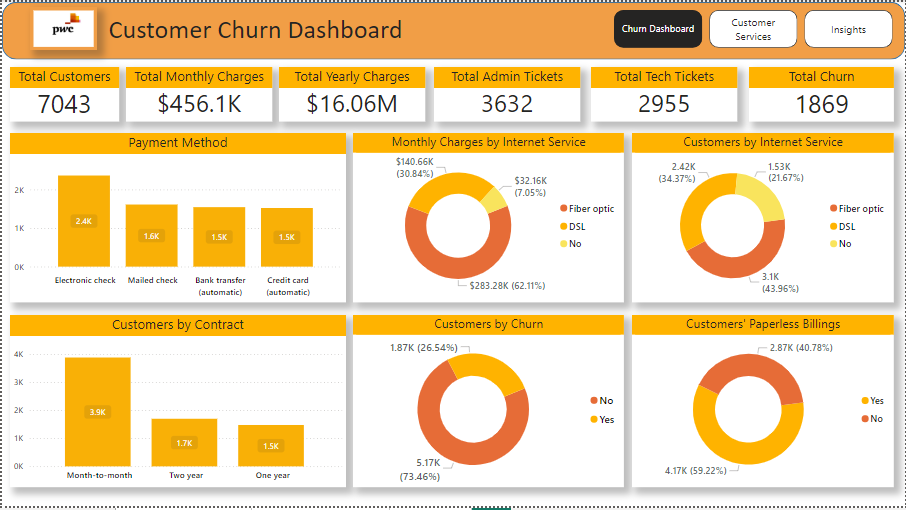

This screenshot's page, from the dashboard's own definition file:
{"tool":"powerbi","page":{"name":"Churn Dashboard","canvas":[1290,720],"ordinal":0},"visuals":[{"type":"shape","box":[0,0,1290.2,82.1],"z":0},{"type":"image","box":[40.3,7.2,96.5,61.9],"z":1000},{"type":"textbox","box":[146.9,10.1,447.8,61.9],"z":2000},{"type":"card","title":"Total Customers","fields":{"Values":["Count(01 Churn-Dataset.CustomerID)"]},"box":[11.5,92.2,155.5,77.8],"z":3000},{"type":"card","title":"Total Monthly Charges","fields":{"Values":["Sum(01 Churn-Dataset.MonthlyCharges)"]},"box":[177.1,92.2,208.8,77.8],"z":4000},{"type":"card","title":"Total Yearly Charges","fields":{"Values":["Sum(01 Churn-Dataset.TotalCharges)"]},"box":[396,92.2,208.8,77.8],"z":5000},{"type":"card","title":"Total Admin Tickets","fields":{"Values":["Sum(01 Churn-Dataset.AdminTickets)"]},"box":[617.8,92.2,208.8,77.8],"z":6000},{"type":"card","title":"Total Tech Tickets","fields":{"Values":["Sum(01 Churn-Dataset.TechTickets)"]},"box":[841,92.2,208.8,77.8],"z":7000},{"type":"columnChart","title":"Payment Method","fields":{"Category":["01 Churn-Dataset.PaymentMethod"],"Y":["CountNonNull(01 Churn-Dataset.CustomerID)"]},"box":[11.5,187.2,479.5,241.9],"z":8000},{"type":"donutChart","title":"Monthly Charges by Internet Service","fields":{"Y":["Sum(01 Churn-Dataset.MonthlyCharges)"],"Category":["01 Churn-Dataset.InternetService"]},"box":[501.1,187.2,387.4,241.9],"z":9000},{"type":"donutChart","title":"Customers by Internet Service","fields":{"Category":["01 Churn-Dataset.InternetService"],"Y":["CountNonNull(01 Churn-Dataset.CustomerID)"]},"box":[900,187.2,374.4,241.9],"z":10000},{"type":"columnChart","title":"Customers by Contract","fields":{"Y":["CountNonNull(01 Churn-Dataset.CustomerID)"],"Category":["01 Churn-Dataset.Contract"]},"box":[11.5,447.8,479.5,246.2],"z":11000},{"type":"card","title":"Total Churn","fields":{"Values":["01 Churn-Dataset.Total_Churn"]},"box":[1067,92.2,207.4,77.8],"z":12000},{"type":"donutChart","title":"Customers by Churn","fields":{"Y":["CountNonNull(01 Churn-Dataset.CustomerID)"],"Category":["01 Churn-Dataset.Churn"]},"box":[501.1,447.8,387.4,246.2],"z":13000},{"type":"donutChart","title":"Customers'' Paperless Billings","fields":{"Y":["CountNonNull(01 Churn-Dataset.CustomerID)"],"Category":["01 Churn-Dataset.PaperlessBilling"]},"box":[900,447.8,374.4,246.2],"z":14000},{"type":"pageNavigator","box":[874.1,11.5,400.3,54.7],"z":15000}]}

Visuals, with their boxes in screenshot pixels (x1, y1, x2, y2), scaled from the page's 1290x720 canvas onto the 906x510 screenshot:
shape: l=0, t=0, r=905, b=58
image: l=28, t=5, r=96, b=49
textbox: l=103, t=7, r=418, b=51
"Total Customers" card: l=8, t=65, r=117, b=120
"Total Monthly Charges" card: l=124, t=65, r=271, b=120
"Total Yearly Charges" card: l=278, t=65, r=425, b=120
"Total Admin Tickets" card: l=434, t=65, r=581, b=120
"Total Tech Tickets" card: l=591, t=65, r=737, b=120
"Payment Method" columnChart: l=8, t=133, r=345, b=304
"Monthly Charges by Internet Service" donutChart: l=352, t=133, r=624, b=304
"Customers by Internet Service" donutChart: l=632, t=133, r=895, b=304
"Customers by Contract" columnChart: l=8, t=317, r=345, b=492
"Total Churn" card: l=749, t=65, r=895, b=120
"Customers by Churn" donutChart: l=352, t=317, r=624, b=492
"Customers'' Paperless Billings" donutChart: l=632, t=317, r=895, b=492
pageNavigator: l=614, t=8, r=895, b=47
